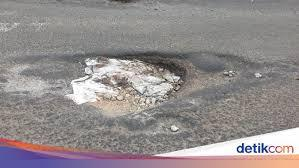Pothole: (56, 44, 276, 140)
